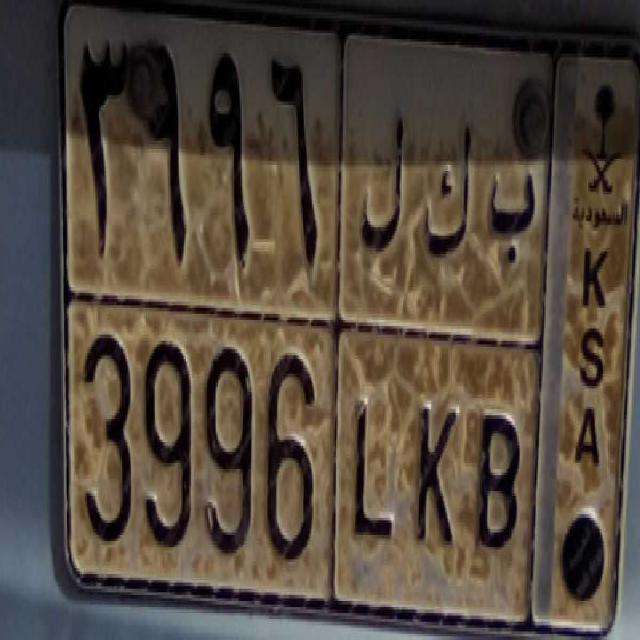license_plate: (82, 305, 527, 640)
